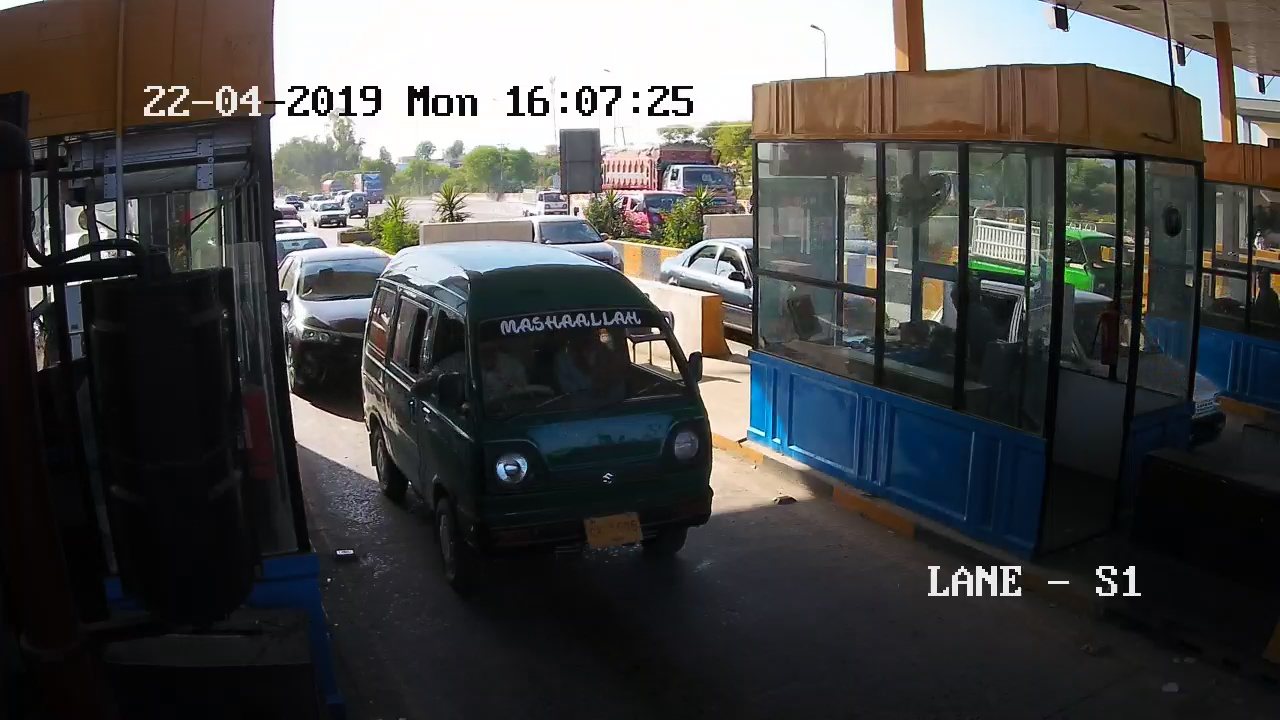Number Plate (Car): (584, 514, 646, 544)
